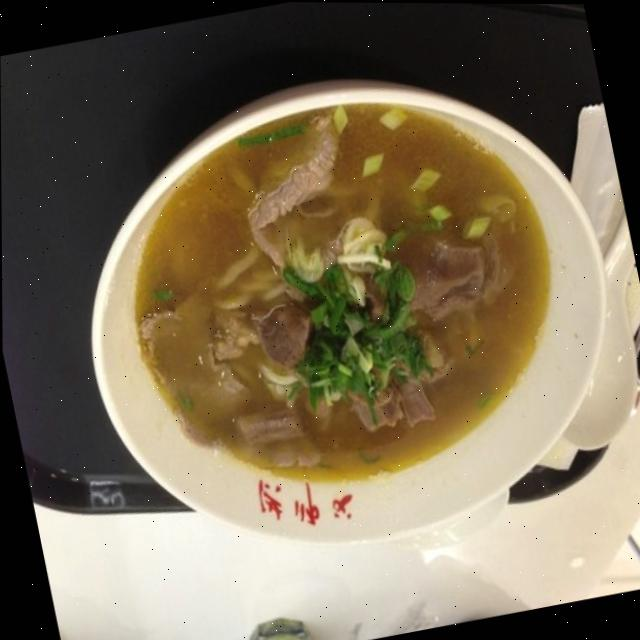面条主食: (77, 42, 595, 549)
